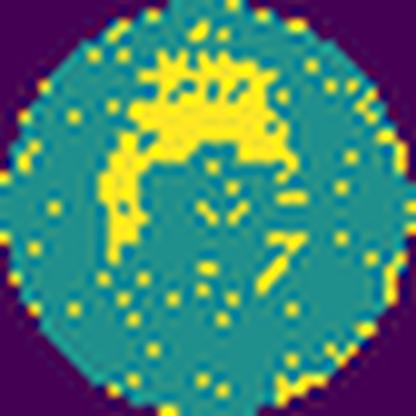Donut: (88, 47, 313, 302)
